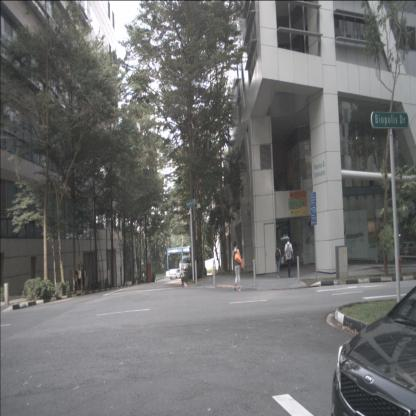human-pedestrian-adult: (232, 240, 245, 292), (284, 237, 294, 277), (275, 243, 281, 278), (80, 265, 86, 290), (77, 264, 81, 291)
vehicle-car: (329, 286, 416, 416), (181, 256, 197, 282), (400, 242, 414, 260), (169, 269, 181, 280)
